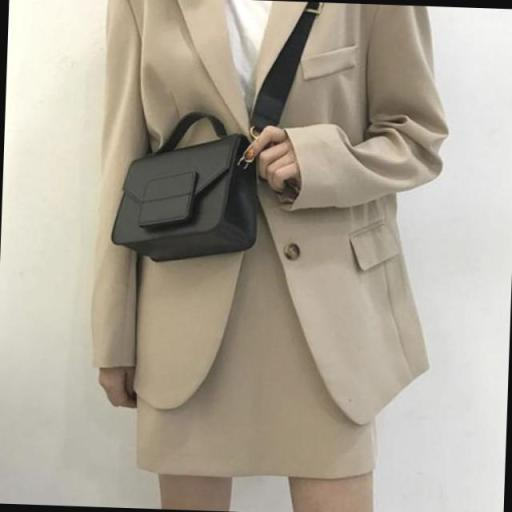bag: (120, 130, 264, 266)
